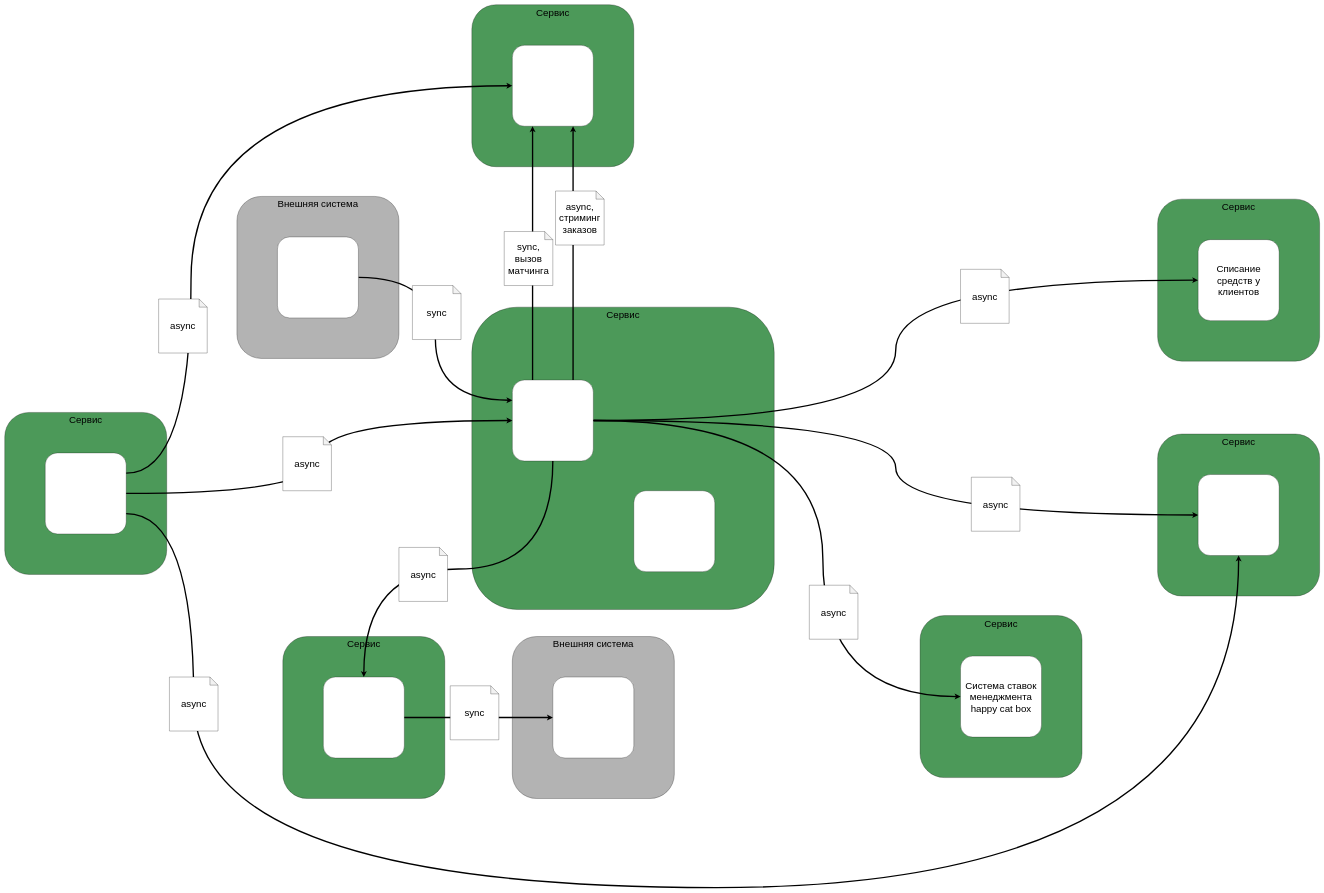
Some shapes in this 1324 by 893 pixel diagram are drawn without their labels. The shapes that lost their labels are listed below. From the top down, each one's centre as x and y in pixels, then its label:
At [552,85]: "Расчет и списание средств у клиентов и сотрудников".
At [317,277]: "happy cat box".
At [552,420]: "Планирование визитов".
At [85,493]: "скоринг работников перед тем как добавить их в систему как воркеров".
At [674,531]: "Контроль качества работы сотрудников".
At [1238,515]: "Начисление зп и штрафы воркерам".
At [363,717]: "Сборка необходимых расходников для заказа".
At [593,717]: "Производство fur-tune печенья".
